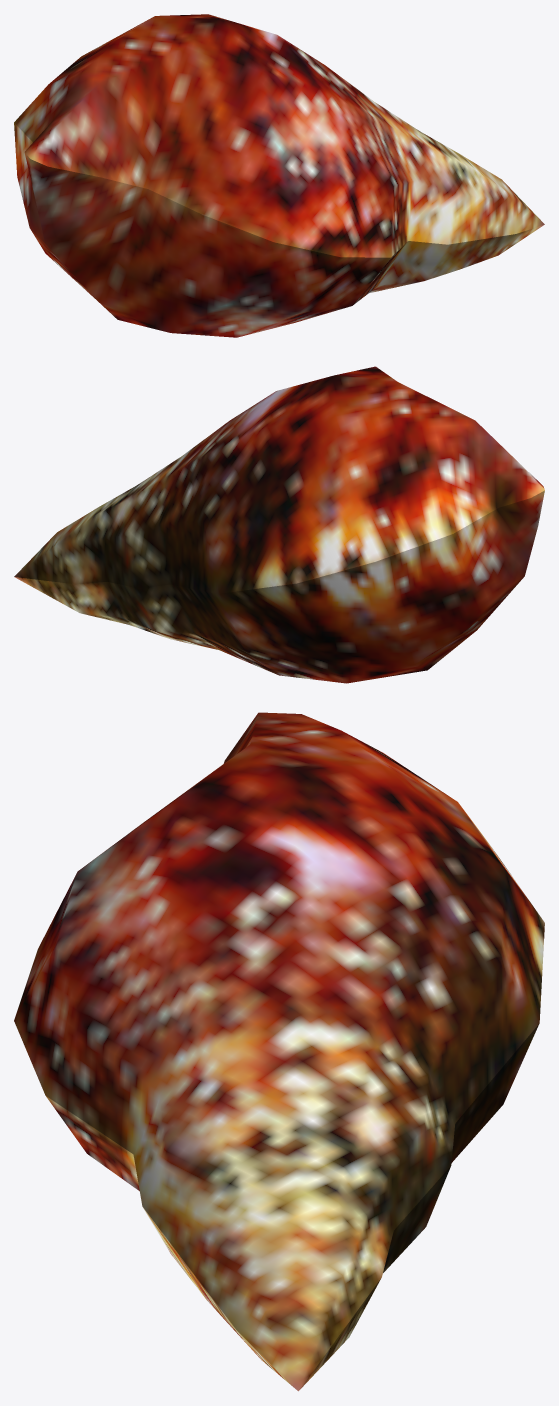
File: SeaShell-03_LOD0_newsmall.glb
3 views of the same model, one above another, from view 1: azimuth 30°, elevation 25°; view 2: azimuth 150°, elevation 25°; view 3: azimuth 270°, elevation 25° (orthographic). The views are drawn at different scales.
Parts seen in each view (by area): view 1: SeaShell-03_high; view 2: SeaShell-03_high; view 3: SeaShell-03_high.
Boxes of the visible parts, x1,y1,x2,y2 form: SeaShell-03_high: (14,14,544,337); SeaShell-03_high: (14,366,544,683); SeaShell-03_high: (14,712,544,1391).
Size of the model in its own units: 0.1445 by 0.0777 by 0.09.
Materials: 1 (1 with a texture image).
